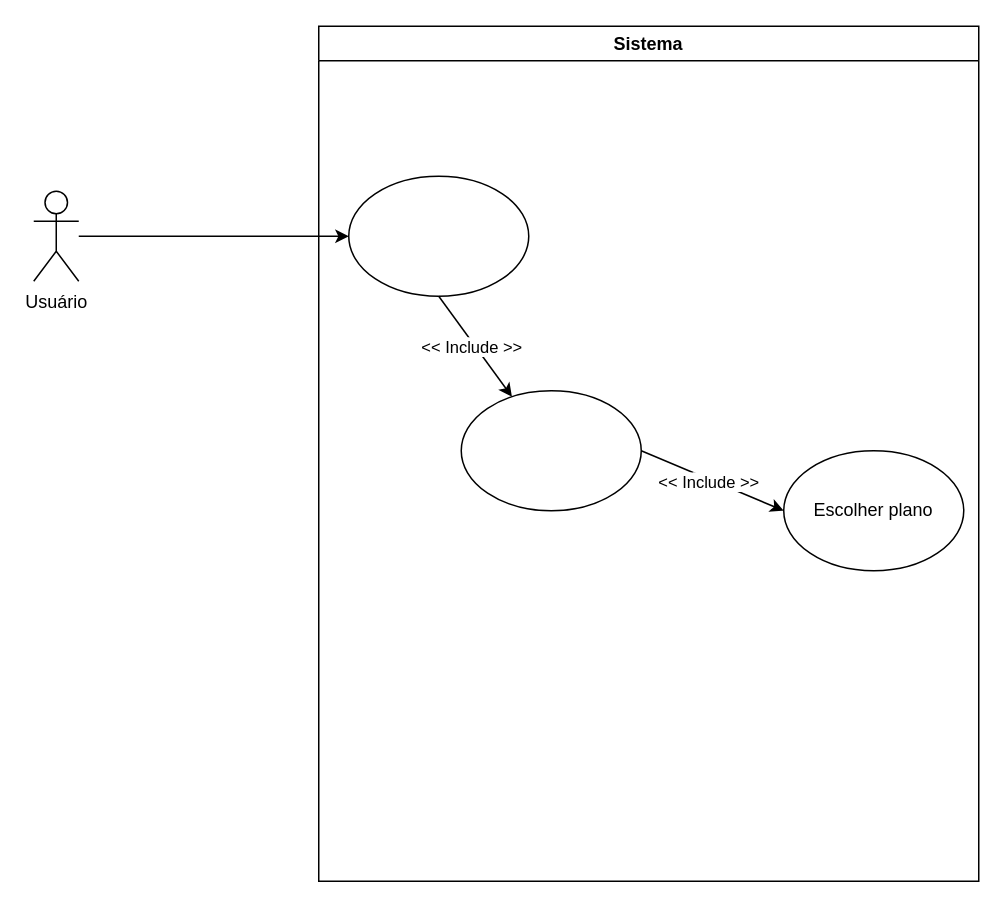
Image size: 1005x908. Some labels were removed from this diagram. The box of each missing label's shape, as (x1, y1, x2, y2) in pixels:
Fazer login: (347, 175, 529, 296)
Registrar: (460, 389, 641, 511)
